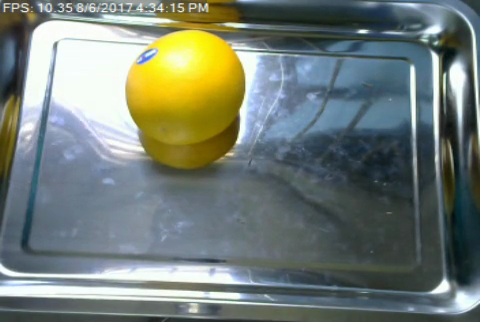Orange: (124, 28, 246, 144)
